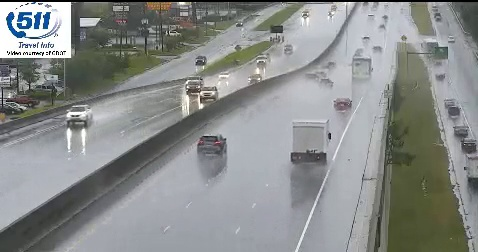car: (198, 135, 226, 156), (333, 97, 351, 111)
small-truck: (291, 119, 329, 163), (351, 58, 372, 81)
